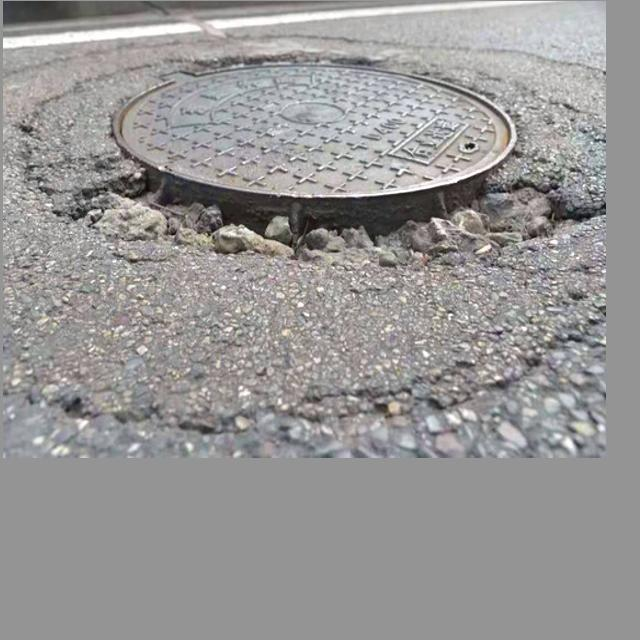circle: (20, 35, 597, 313)
